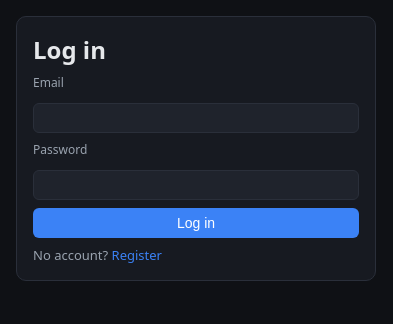
Test: Login › displays the API error and stays on the page on invalid credentials
Step 1. Type "u@e.com" into the field labelled "Email" → (196, 118), box top-left (33, 103), bottom-right (359, 133)
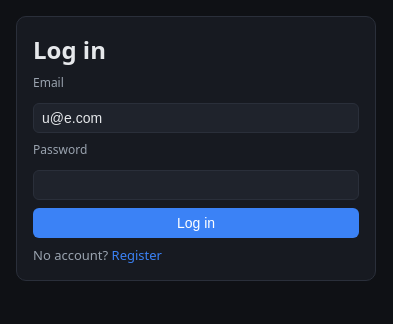
Step 2. Type "wrong" into the password field labelled "Password" → (196, 185), box top-left (33, 170), bottom-right (359, 200)
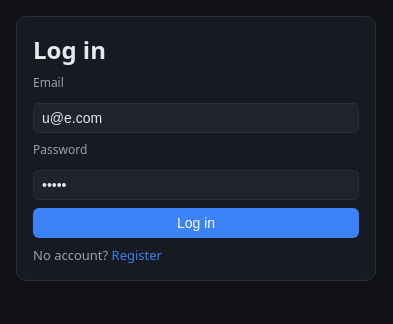
Step 3. Click the button "Log in" → click(196, 223), box top-left (33, 208), bottom-right (359, 238)
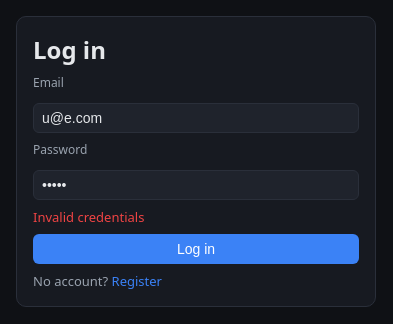
Expected: the text "Invalid credentials" is shown, top-left (33, 208), bottom-right (144, 226)
